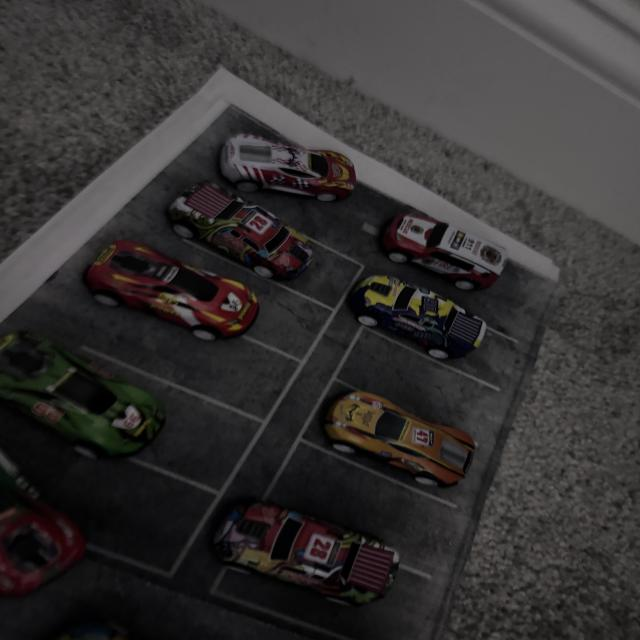Car: (101, 130, 342, 291), (46, 228, 248, 360), (175, 486, 408, 600), (0, 358, 186, 492), (301, 362, 475, 474), (182, 111, 378, 205), (336, 255, 496, 348), (403, 202, 515, 278)
